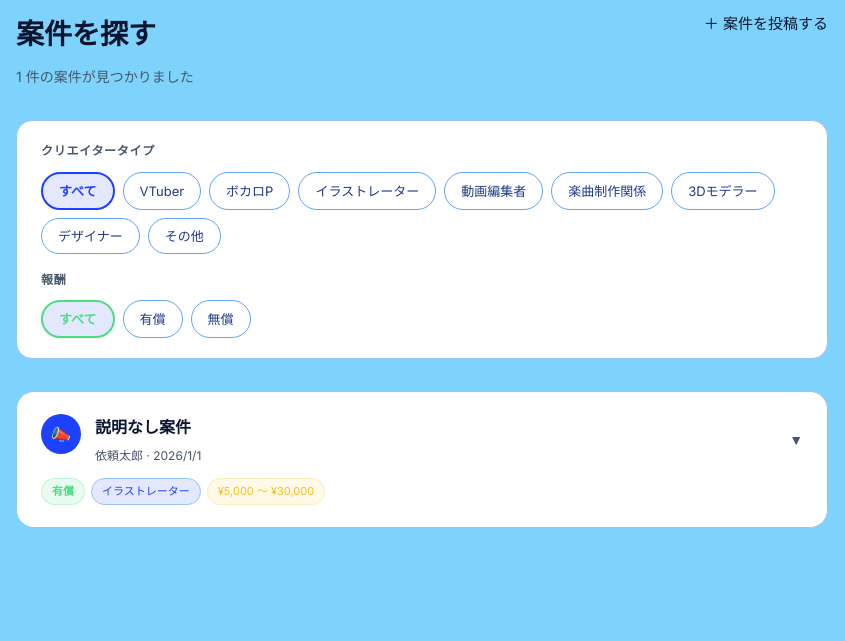
Test: JobListingsClient › [edge] description が null の案件を展開すると「詳細説明なし」と表示される
The width and height of the screenshot is (845, 641).
Click the text "説明なし案件": {"x": 422, "y": 460} [16, 392, 828, 528]
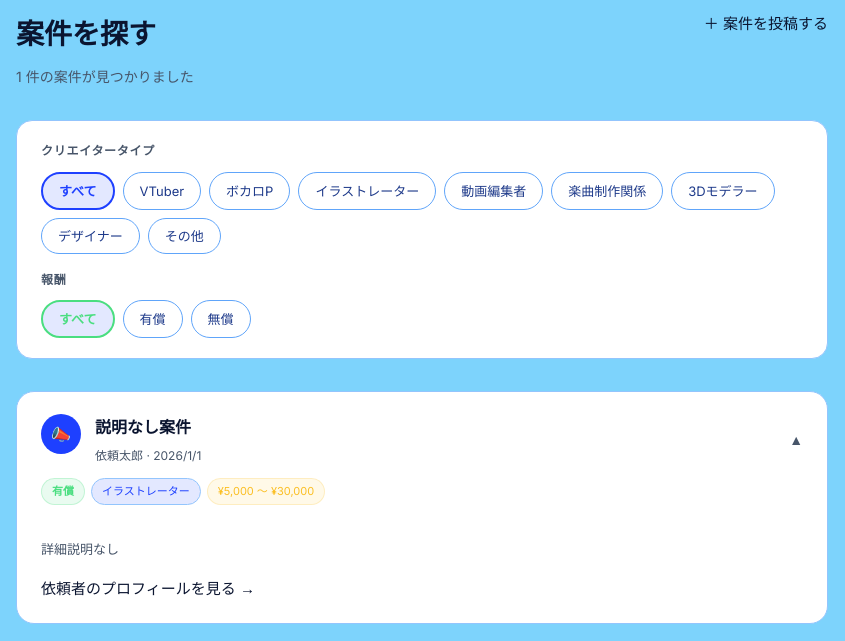
Expected: the text "詳細説明なし" is shown, [41, 541, 119, 557]
